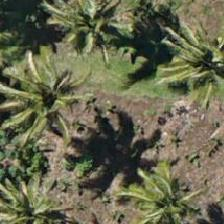coconut_tree: (8, 55, 98, 145), (49, 0, 139, 70), (161, 21, 223, 111), (126, 169, 216, 223)
